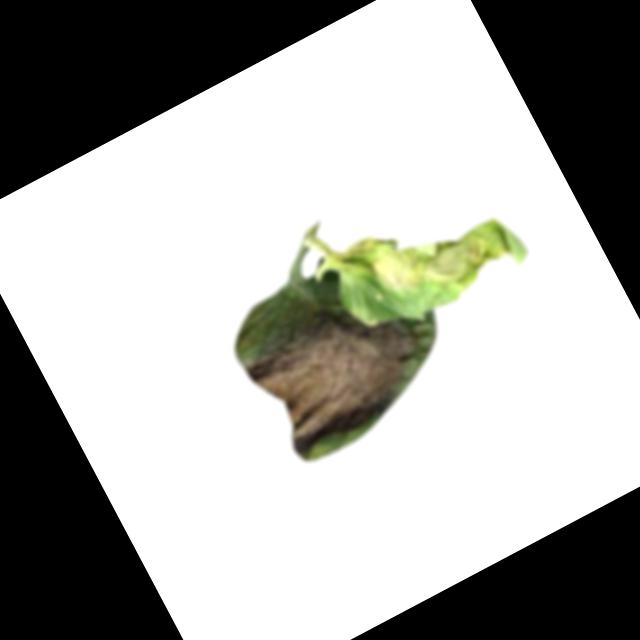Late_blight: (234, 275, 443, 464), (335, 171, 534, 341)
